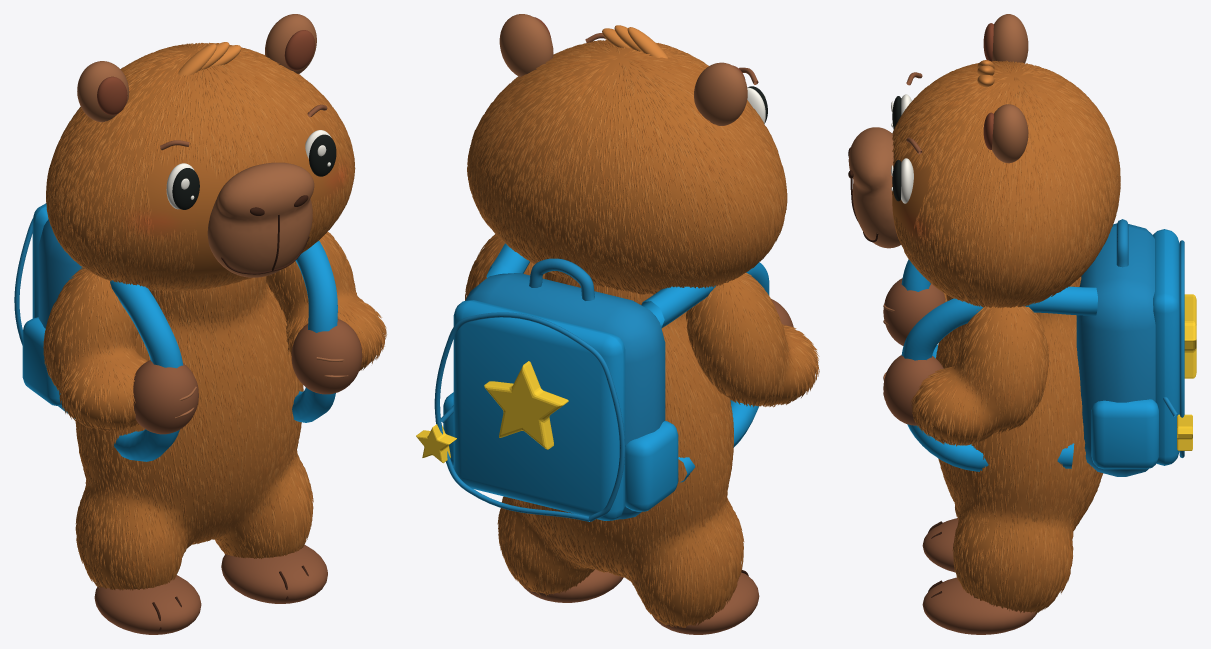
File: mascot.glb
The picture shows the model from 3 angles, left to right: view 1: azimuth 30°, elevation 25°; view 2: azimuth 150°, elevation 25°; view 3: azimuth 270°, elevation 25°; orthographic projection. The views are drawn at different scales.
Visible parts, largest first — view 1: body_sculpt, body_sculpt_short_fur, head_sculpt_short_fur, head_sculpt, arm_sculpt_-1, unified_snout, arm_sculpt_-1_short_fur, foot_1, foot_-1, backpack_strap_-1, hand_1, hand_-1 (+14 smaller); view 2: head_sculpt_short_fur, head_sculpt, backpack_outer_face, body_sculpt_short_fur, body_sculpt, backpack_padded_body, arm_sculpt_-1, arm_sculpt_-1_short_fur, backpack_side_pocket_-1, backpack_panel_piping, backpack_star, backpack_strap_-1 (+10 smaller); view 3: head_sculpt_short_fur, head_sculpt, body_sculpt, body_sculpt_short_fur, backpack_padded_body, arm_sculpt_1, arm_sculpt_1_short_fur, backpack_strap_1, backpack_outer_face, backpack_side_pocket_1, unified_snout, foot_1 (+11 smaller).
Boxes of the visible parts, box(x1,y1,x2,y2) form: body_sculpt: box(77, 277, 311, 589); body_sculpt_short_fur: box(75, 276, 313, 590); head_sculpt_short_fur: box(46, 42, 355, 291); head_sculpt: box(48, 44, 351, 289); arm_sculpt_-1: box(45, 268, 143, 429); unified_snout: box(207, 162, 314, 277); arm_sculpt_-1_short_fur: box(43, 267, 147, 431); foot_1: box(221, 544, 327, 603); foot_-1: box(94, 575, 201, 634); backpack_strap_-1: box(74, 280, 183, 461); hand_1: box(291, 319, 362, 394); hand_-1: box(133, 360, 198, 434); head_sculpt_short_fur: box(467, 39, 787, 294); head_sculpt: box(468, 41, 785, 293); backpack_outer_face: box(453, 300, 625, 520); body_sculpt_short_fur: box(497, 272, 744, 627); body_sculpt: box(500, 272, 742, 625); backpack_padded_body: box(465, 273, 665, 519); arm_sculpt_-1: box(687, 274, 816, 405); arm_sculpt_-1_short_fur: box(686, 273, 819, 407); backpack_side_pocket_-1: box(625, 421, 678, 511); backpack_panel_piping: box(434, 312, 625, 521); backpack_star: box(484, 361, 568, 449); backpack_strap_-1: box(641, 262, 769, 482); head_sculpt_short_fur: box(892, 60, 1120, 307); head_sculpt: box(892, 62, 1118, 306); body_sculpt: box(938, 279, 1100, 611); body_sculpt_short_fur: box(936, 276, 1103, 613); backpack_padded_body: box(1076, 223, 1155, 476); arm_sculpt_1: box(914, 306, 1047, 443); arm_sculpt_1_short_fur: box(910, 306, 1049, 446); backpack_strap_1: box(901, 286, 1097, 471); backpack_outer_face: box(1153, 229, 1179, 465); backpack_side_pocket_1: box(1091, 399, 1158, 469); unified_snout: box(848, 127, 901, 248); foot_1: box(922, 577, 1037, 634).
Bounding box in the file's own units: 1.09 × 1.85 × 1.08.
